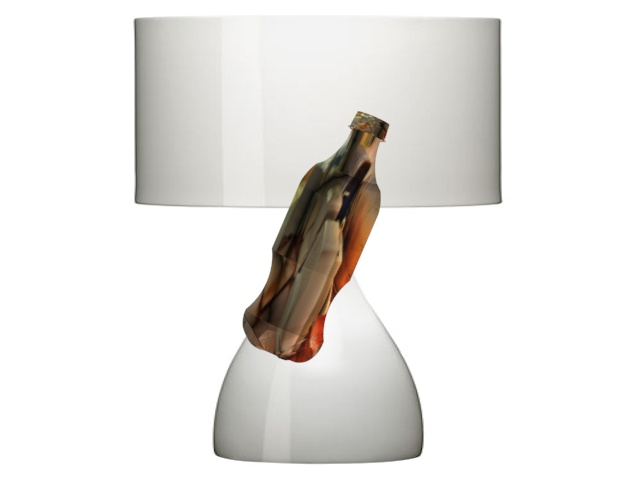bottle: (240, 105, 401, 369)
